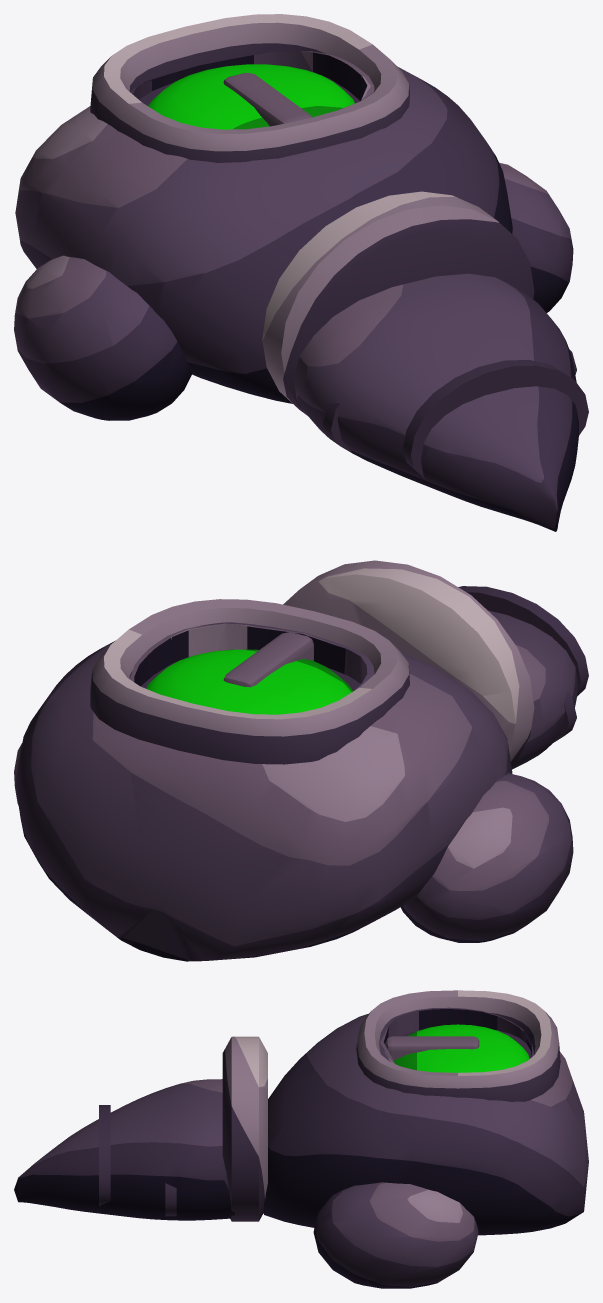
The model's file is deli_mite.glb.
3 views of the same model, one above another, from view 1: azimuth 30°, elevation 25°; view 2: azimuth 150°, elevation 25°; view 3: azimuth 270°, elevation 25° (orthographic). The views are drawn at different scales.
Parts seen in each view (by area): view 1: carapace, tail, window_frame, collar, pod0, window_glass, pod0_r, tail_groove1, window_bar, tail_groove0; view 2: carapace, window_frame, collar, pod0, window_glass, tail, tail_groove1, window_bar; view 3: carapace, tail, pod0_r, window_frame, collar, window_glass, window_bar, tail_groove1.
Boxes of the visible parts, x1,y1,x2,y2 form: carapace: (15, 51, 512, 403); tail: (294, 273, 578, 531); window_frame: (90, 14, 409, 162); collar: (262, 191, 534, 415); pod0: (14, 255, 192, 420); window_glass: (148, 64, 354, 129); pod0_r: (499, 162, 573, 312); tail_groove1: (402, 360, 588, 478); window_bar: (223, 73, 311, 126); tail_groove0: (323, 349, 576, 452); carapace: (15, 622, 512, 961); window_frame: (90, 599, 409, 764); collar: (283, 560, 534, 765); pod0: (400, 773, 573, 942); window_glass: (146, 649, 352, 714); tail: (488, 610, 578, 769); tail_groove1: (458, 586, 588, 696); window_bar: (223, 632, 313, 687); carapace: (263, 1007, 588, 1235); tail: (14, 1079, 234, 1220); pod0_r: (313, 1182, 478, 1288); window_frame: (356, 990, 560, 1101); collar: (222, 1036, 267, 1221); window_glass: (394, 1024, 529, 1072); window_bar: (385, 1036, 479, 1060); tail_groove1: (99, 1105, 110, 1206).
Bounding box in the file's own units: 10.46 × 4.66 × 13.92.
